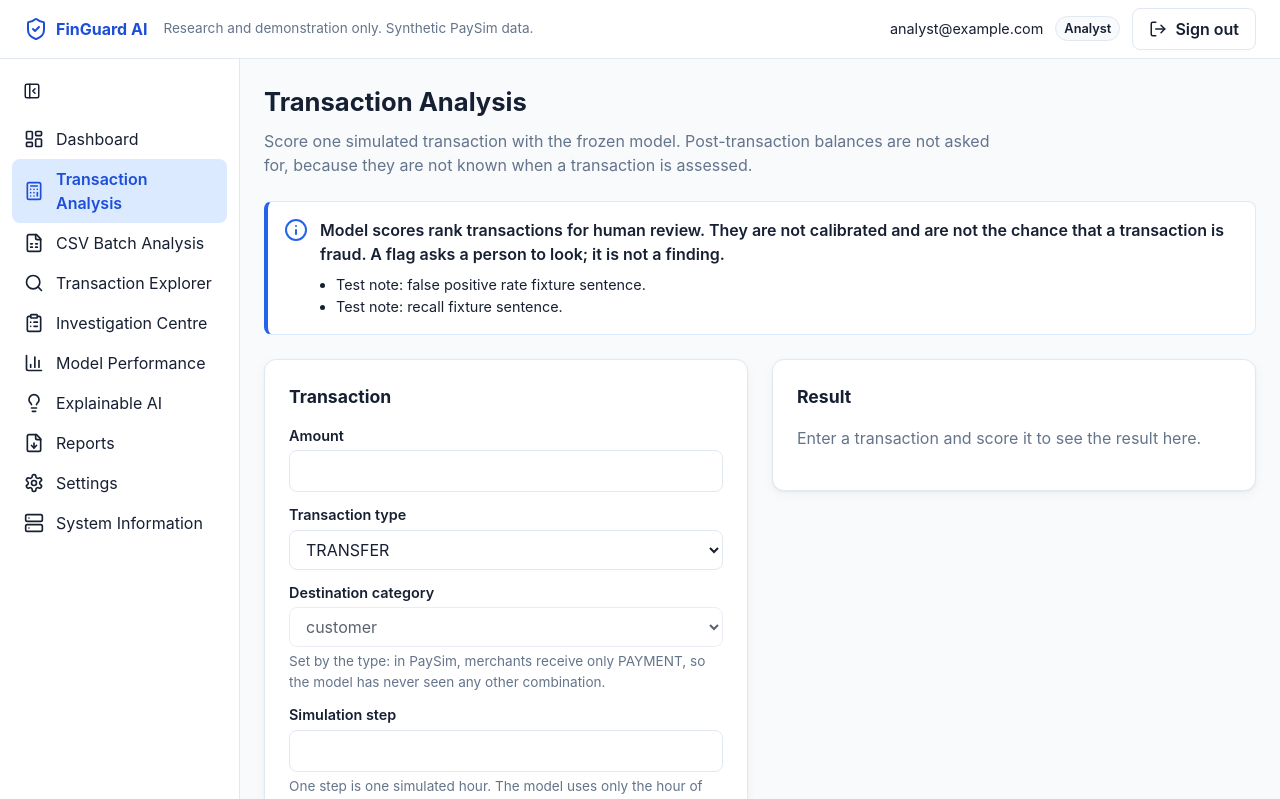
Test: transaction analysis › sends merchant for PAYMENT
Type "10.50" into the field labelled "Amount" at x=506, y=471, box [289,450,723,492]
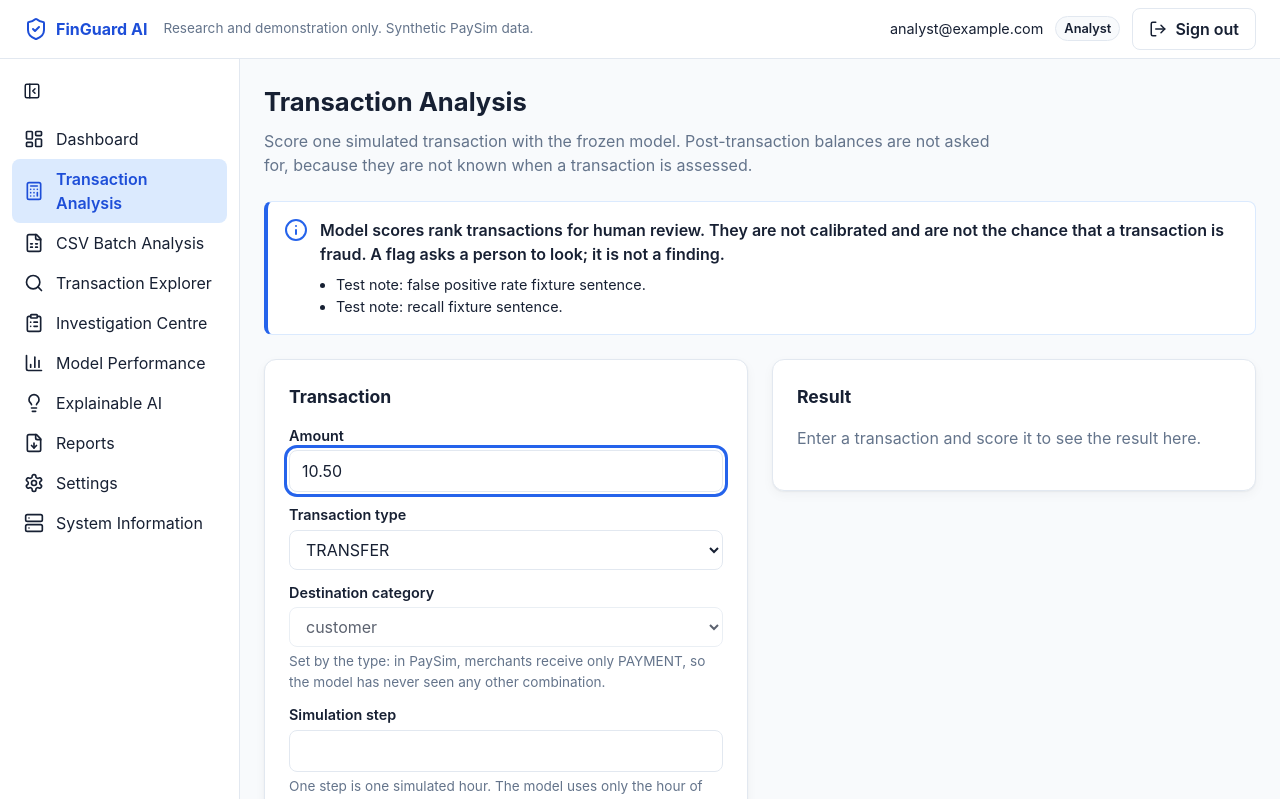
Select "PAYMENT" in the dropdown labelled "Transaction type" at x=506, y=550, box [289,530,723,570]
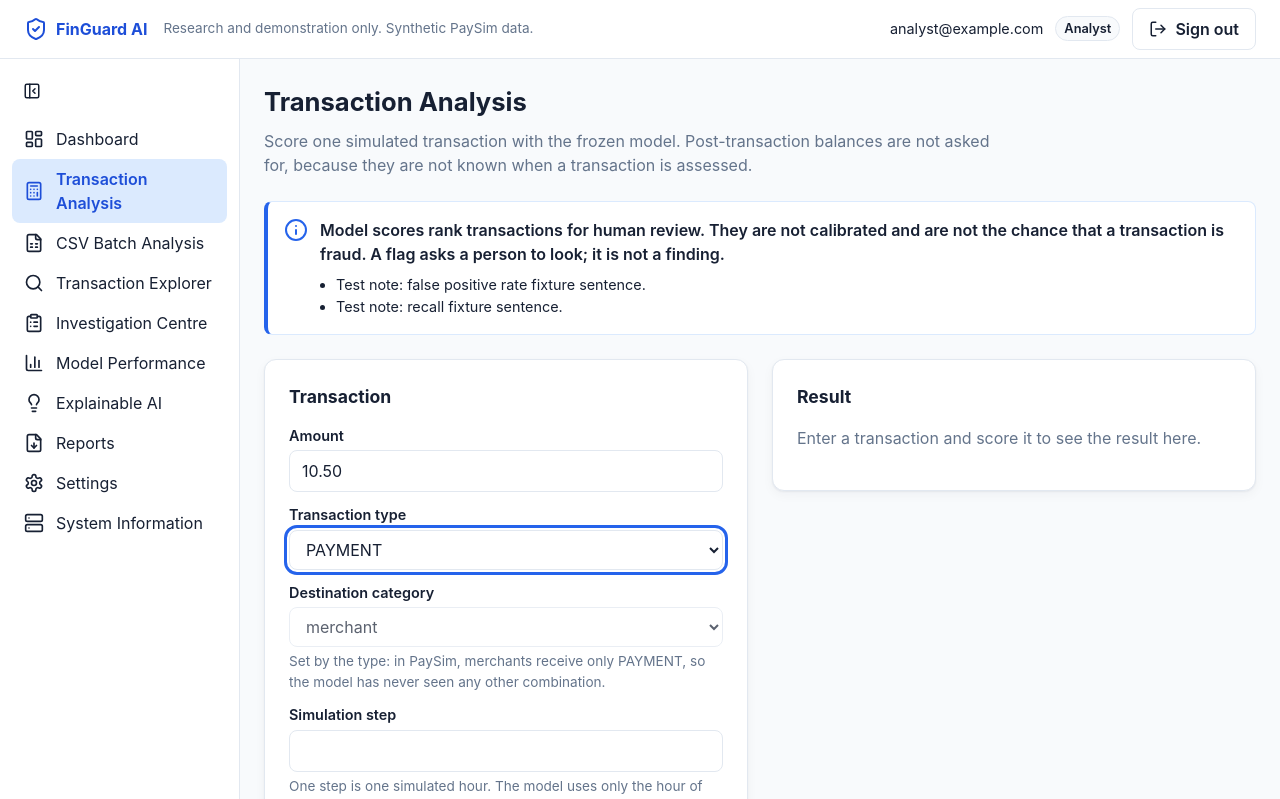
Type "12" into the field labelled "Simulation step" at x=506, y=751, box [289,730,723,772]
(page scrolled)
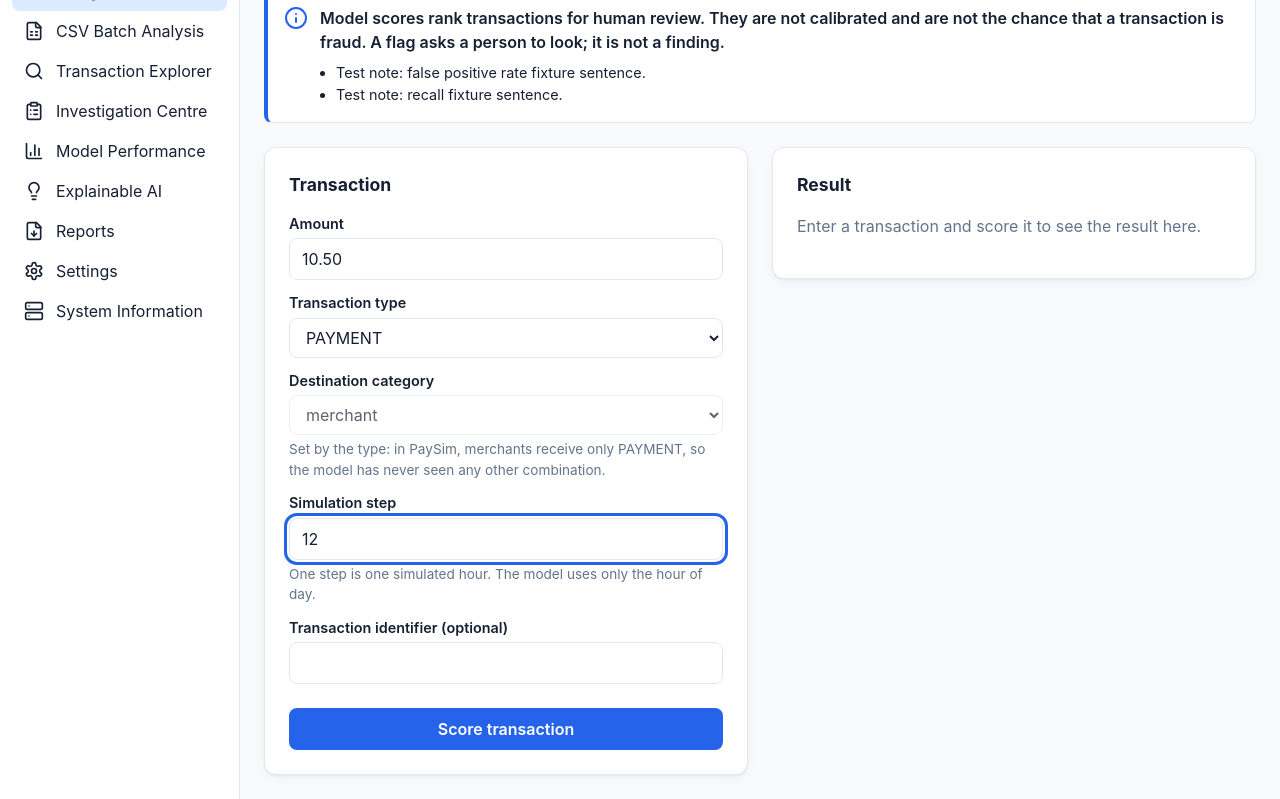
Click the button "Score transaction" at x=506, y=729, box [289,708,723,750]
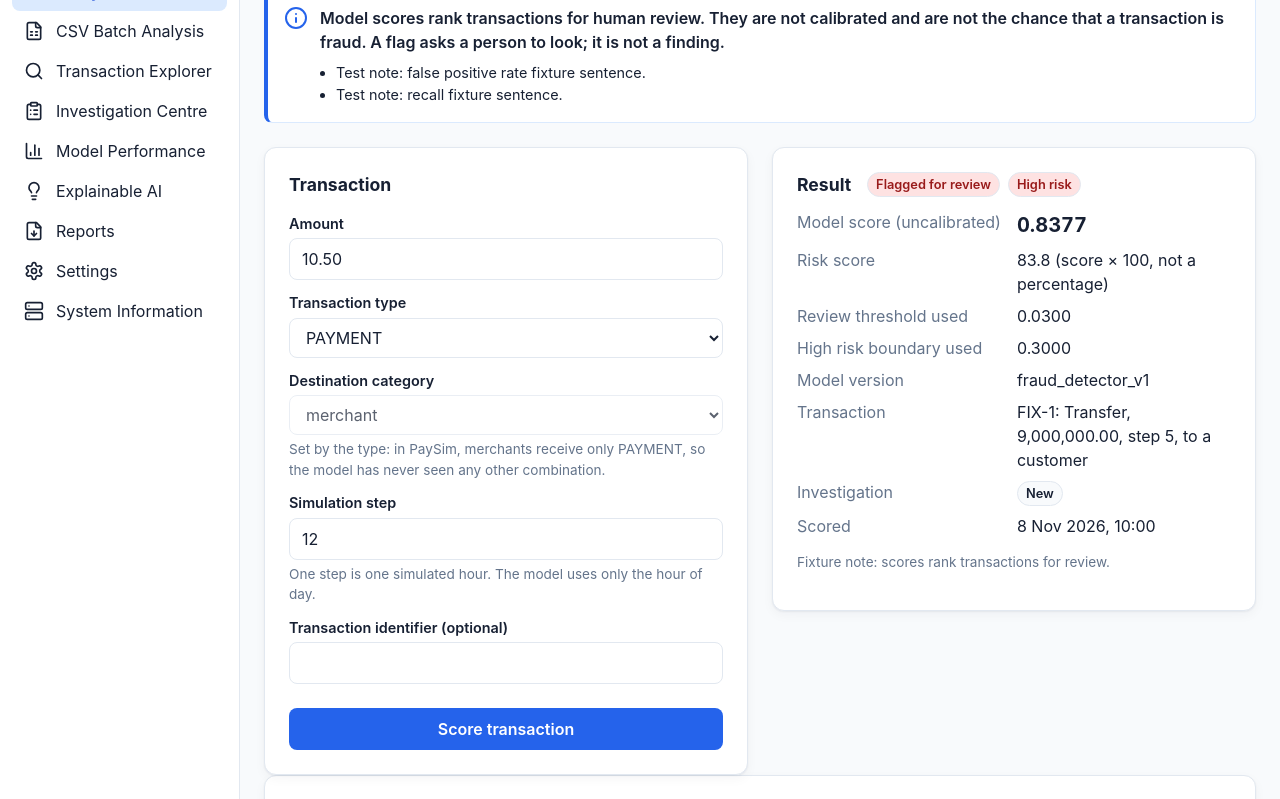
Check: the element named "Prediction result" is shown, box [772,147,1256,611]
